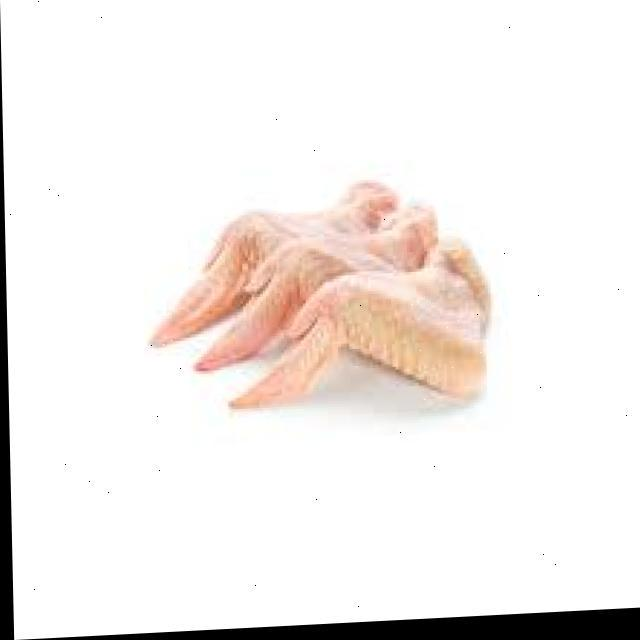wing: (261, 257, 504, 453), (136, 176, 406, 322), (212, 223, 472, 374)
